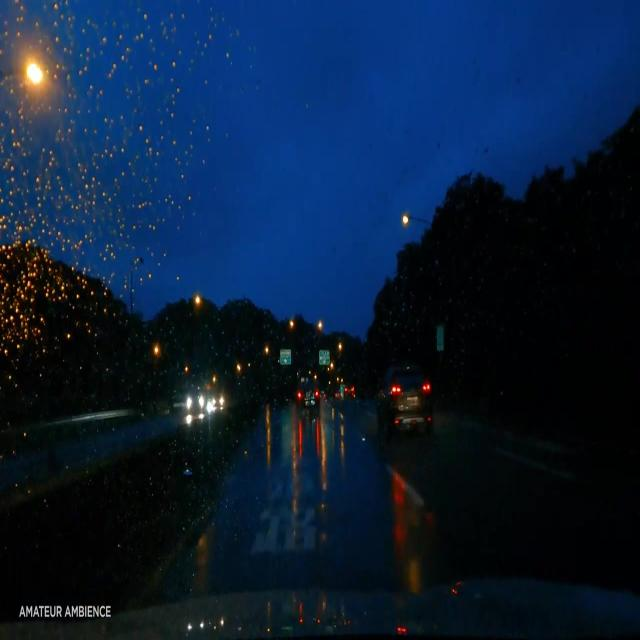Car: (373, 368, 433, 432), (294, 380, 319, 410)
